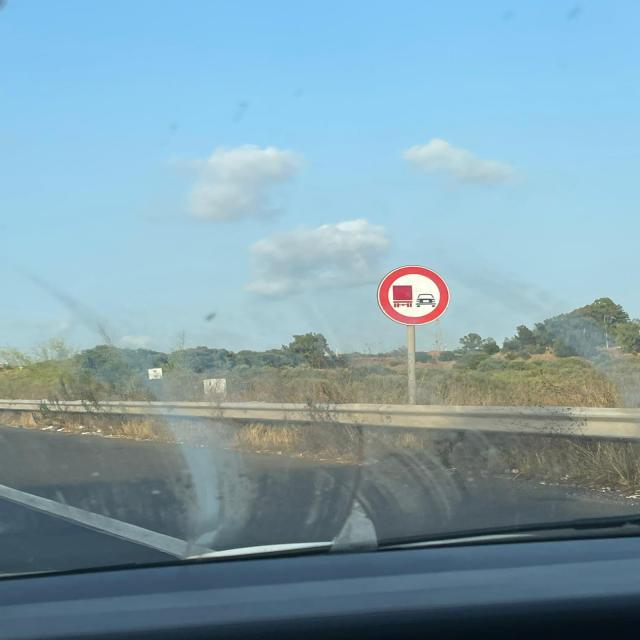forb_overtake_trucks: (376, 264, 451, 326)
